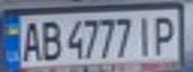4: (63, 16, 84, 60)
7: (112, 15, 136, 57), (97, 15, 118, 58), (81, 16, 100, 60)
A: (18, 17, 42, 63)
B: (36, 17, 63, 62)
I: (133, 12, 157, 56)
P: (148, 12, 178, 56)
